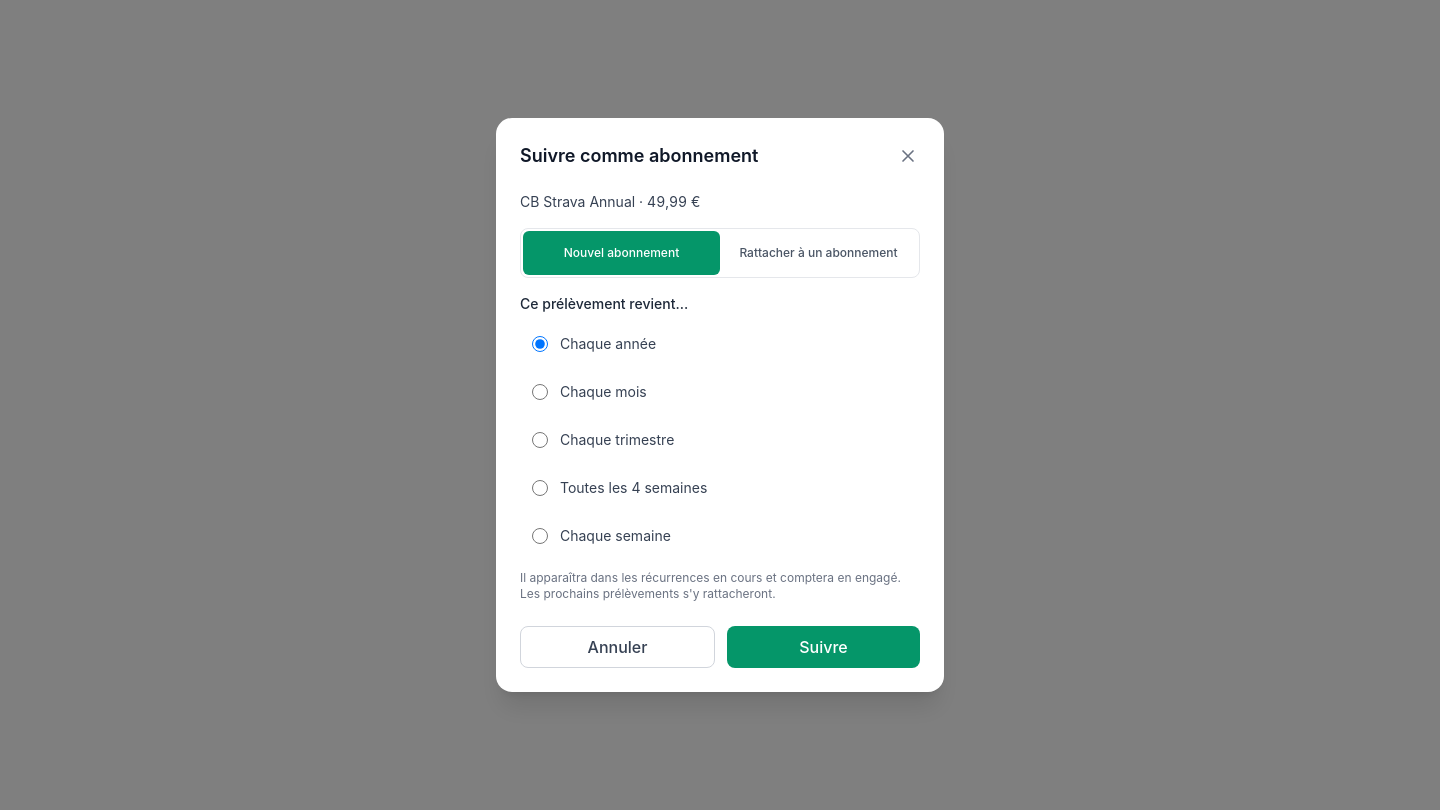
it: MarkRecurringModal › says so when nothing is followed yet
What coordinates should you click on to do the following:
click the radio button with test id "mode-link"
I would click on:
 (818, 253)
Its box is [720,231,917,275].
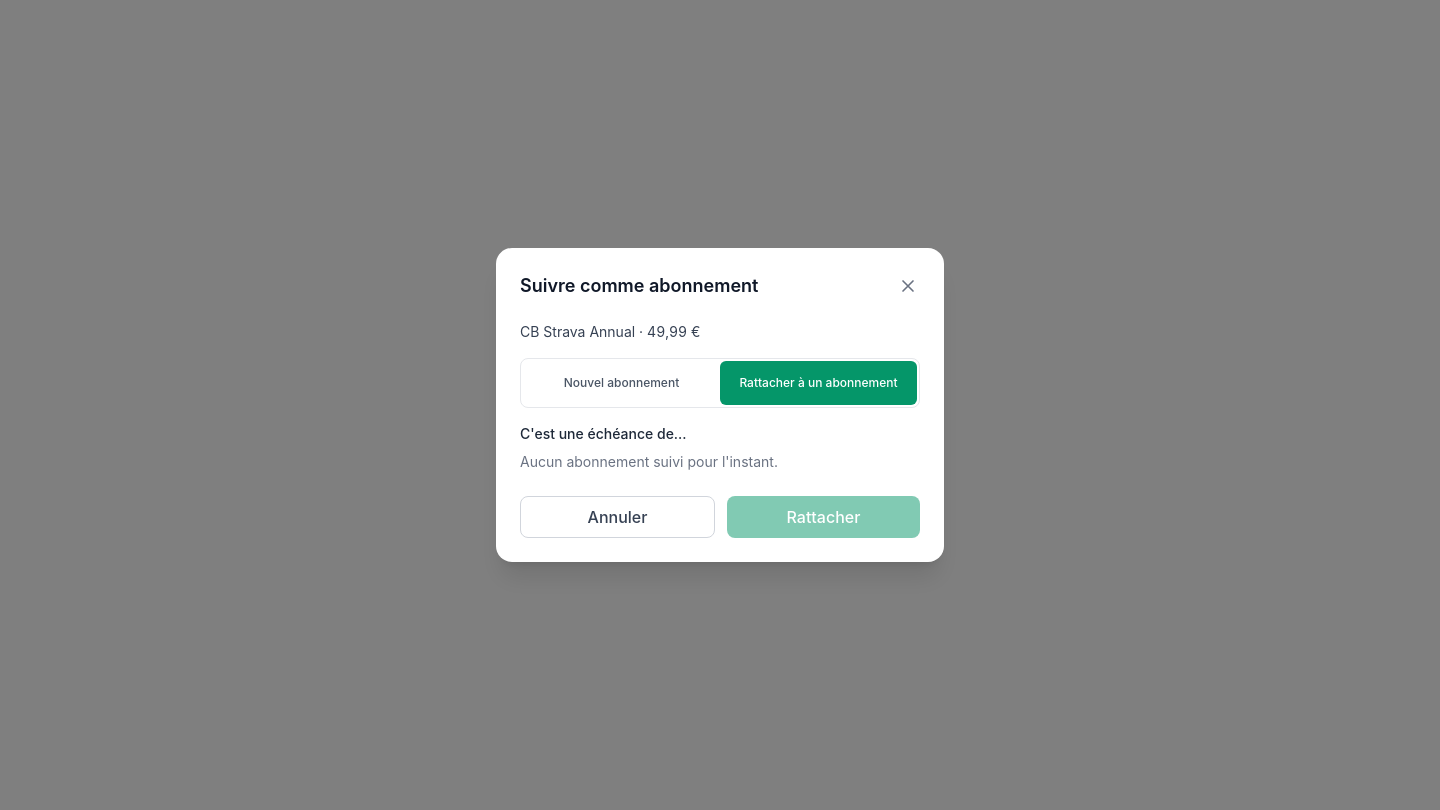
Expected: the text "Aucun abonnement suivi pour l'instant." is shown, [520,453,778,470]
